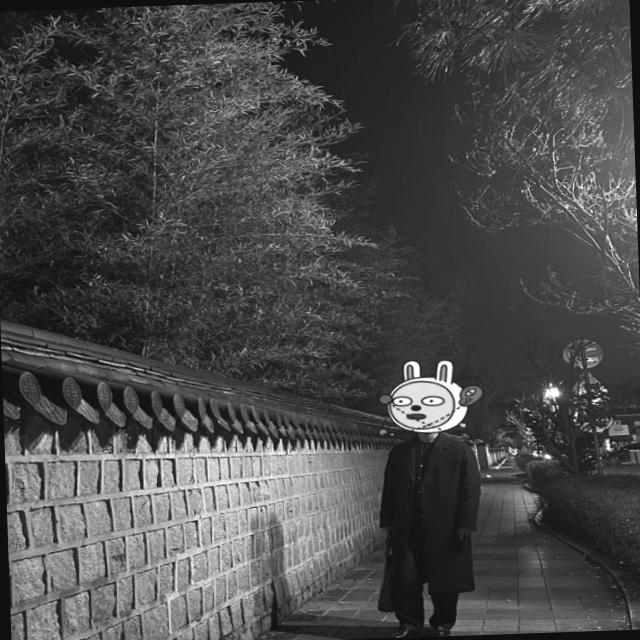coat: (375, 432, 482, 592)
slacks: (398, 588, 459, 635)
